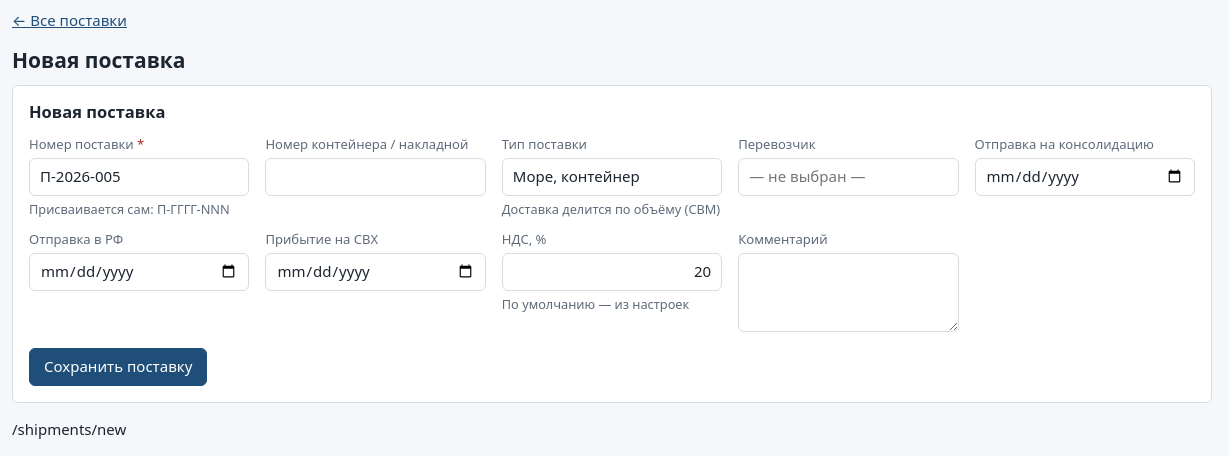
Test: номер и тип поставки (G28, G29) › номер правится; занятый — ошибка
Step 1. Replace the text in the field labelled "Номер поставки *" with "п-2026-004" → (139, 176), box [29,158,249,196]
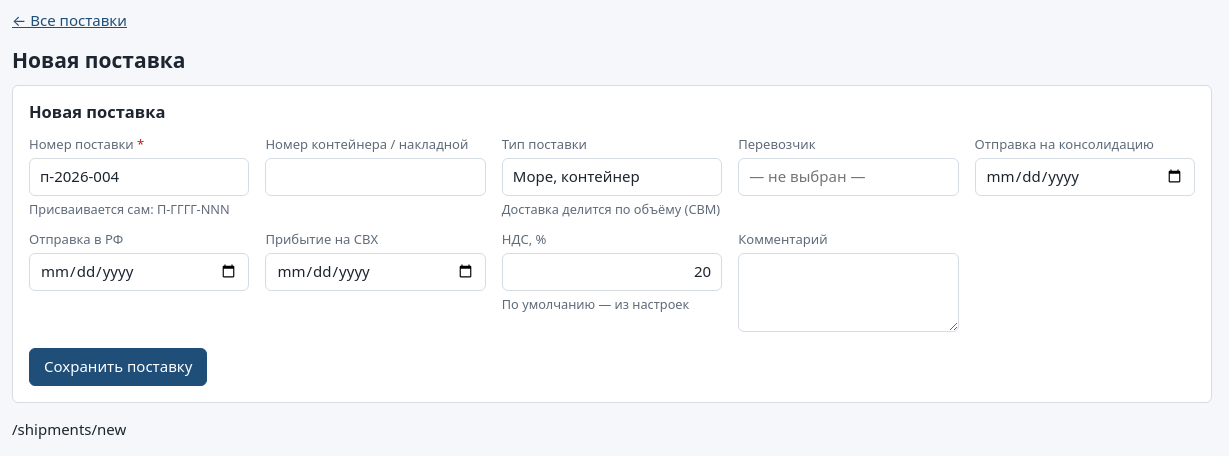
Step 2. Click the button "Сохранить поставку" → (118, 367), box [29,348,207,386]
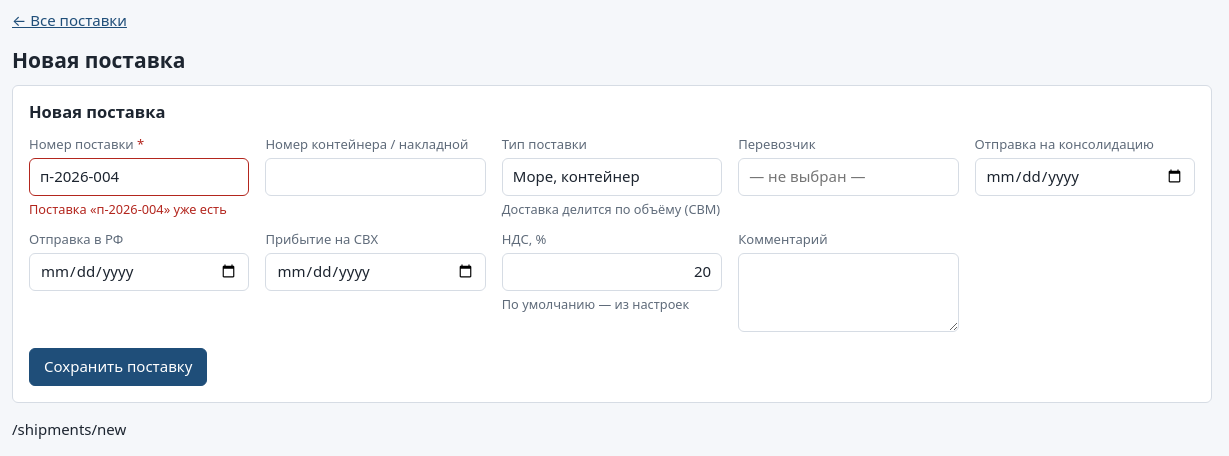
Now the text "Поставка «п-2026-004» уже есть" is shown, box [29,200,249,218]
